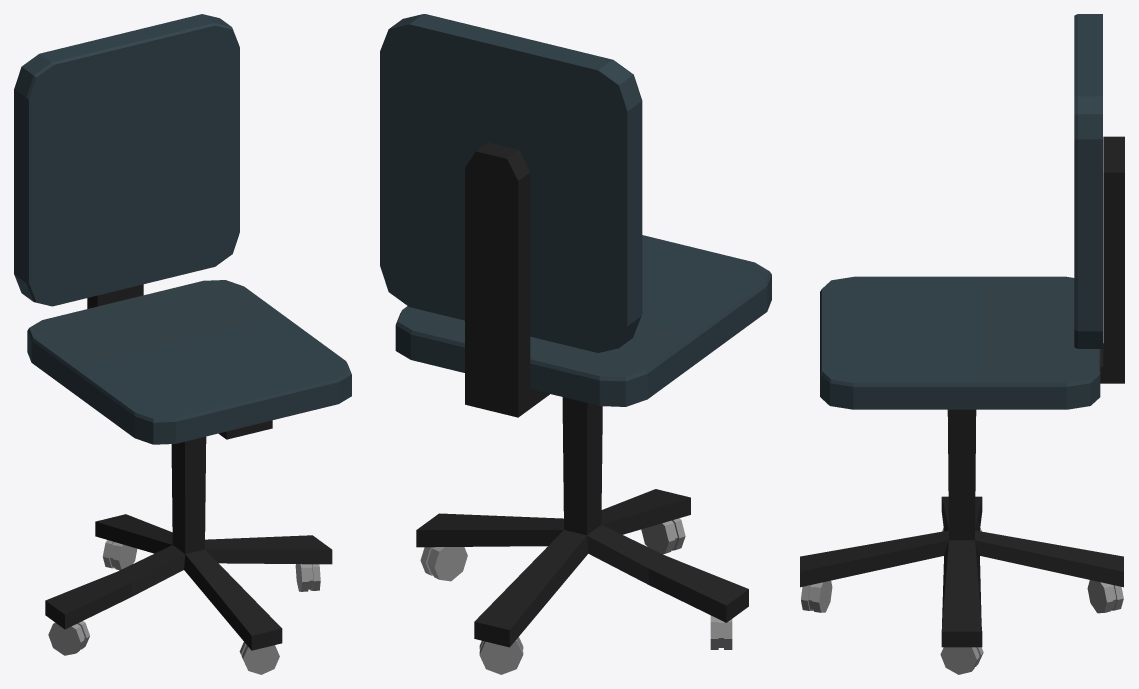
File: Bedroom Office Chair.glb
The picture shows the model from 3 angles, left to right: view 1: azimuth 30°, elevation 25°; view 2: azimuth 150°, elevation 25°; view 3: azimuth 270°, elevation 25°; orthographic projection. The views are drawn at different scales.
Visible parts, largest first — view 1: Office Chair; view 2: Office Chair; view 3: Office Chair.
Boxes of the visible parts, bbox=[...] form: Office Chair: bbox=[14, 14, 351, 674]; Office Chair: bbox=[380, 14, 771, 674]; Office Chair: bbox=[800, 14, 1124, 674].
Bounding box in the file's own units: 0.6397 × 1.23 × 0.6471.
Materials: 1 (1 with a texture image).
